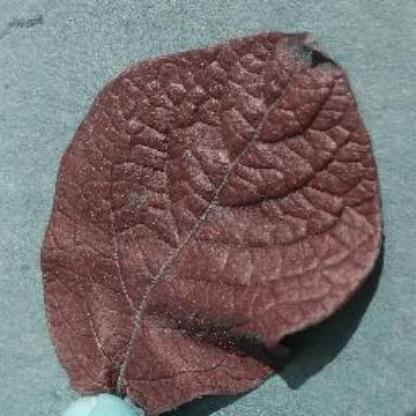Healthy-plant: (36, 22, 394, 404)
